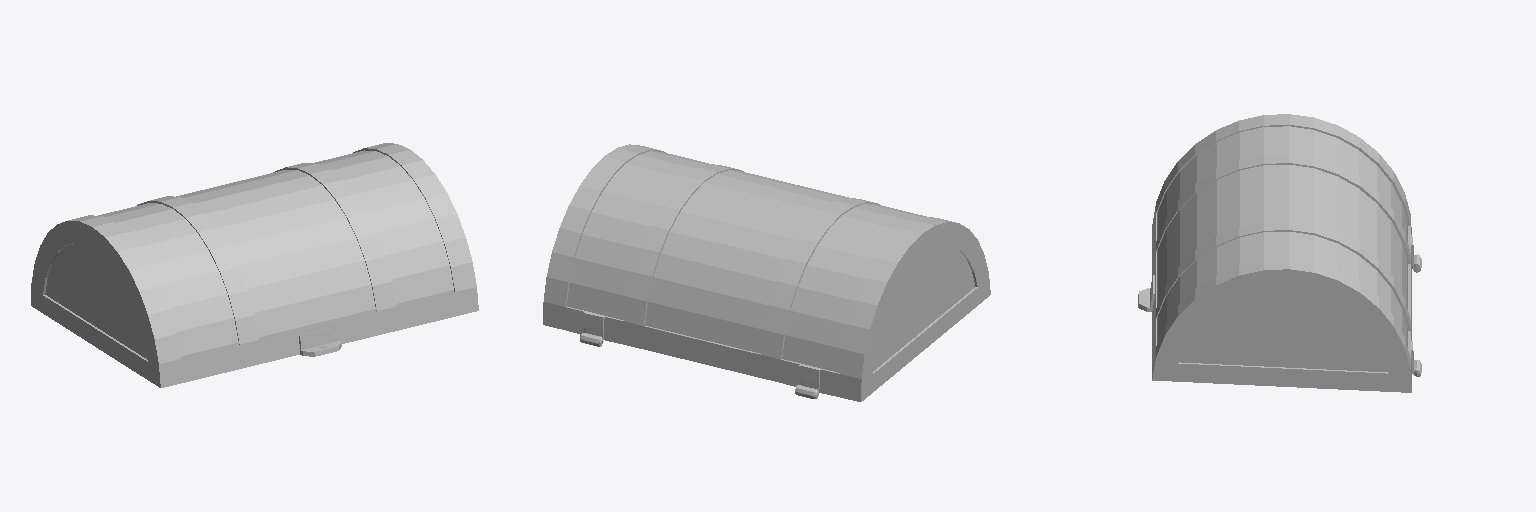
File: CouvercleCoffre.obj
The picture shows the model from 3 angles: view 1: azimuth 30°, elevation 25°; view 2: azimuth 150°, elevation 25°; view 3: azimuth 270°, elevation 25°; orthographic projection.
Visible parts, largest first — view 1: top.001, frametop.001; view 2: top.001, frametop.001; view 3: top.001, frametop.001.
Part boxes in pixels (left/top/right/bottom): top.001: left=45, top=150, right=453, bottom=358; frametop.001: left=31, top=143, right=478, bottom=387; top.001: left=567, top=151, right=974, bottom=372; frametop.001: left=543, top=144, right=990, bottom=401; top.001: left=1157, top=126, right=1407, bottom=371; frametop.001: left=1138, top=114, right=1421, bottom=392.
Size of the model in its own units: 2.88 by 1.11 by 2.23.